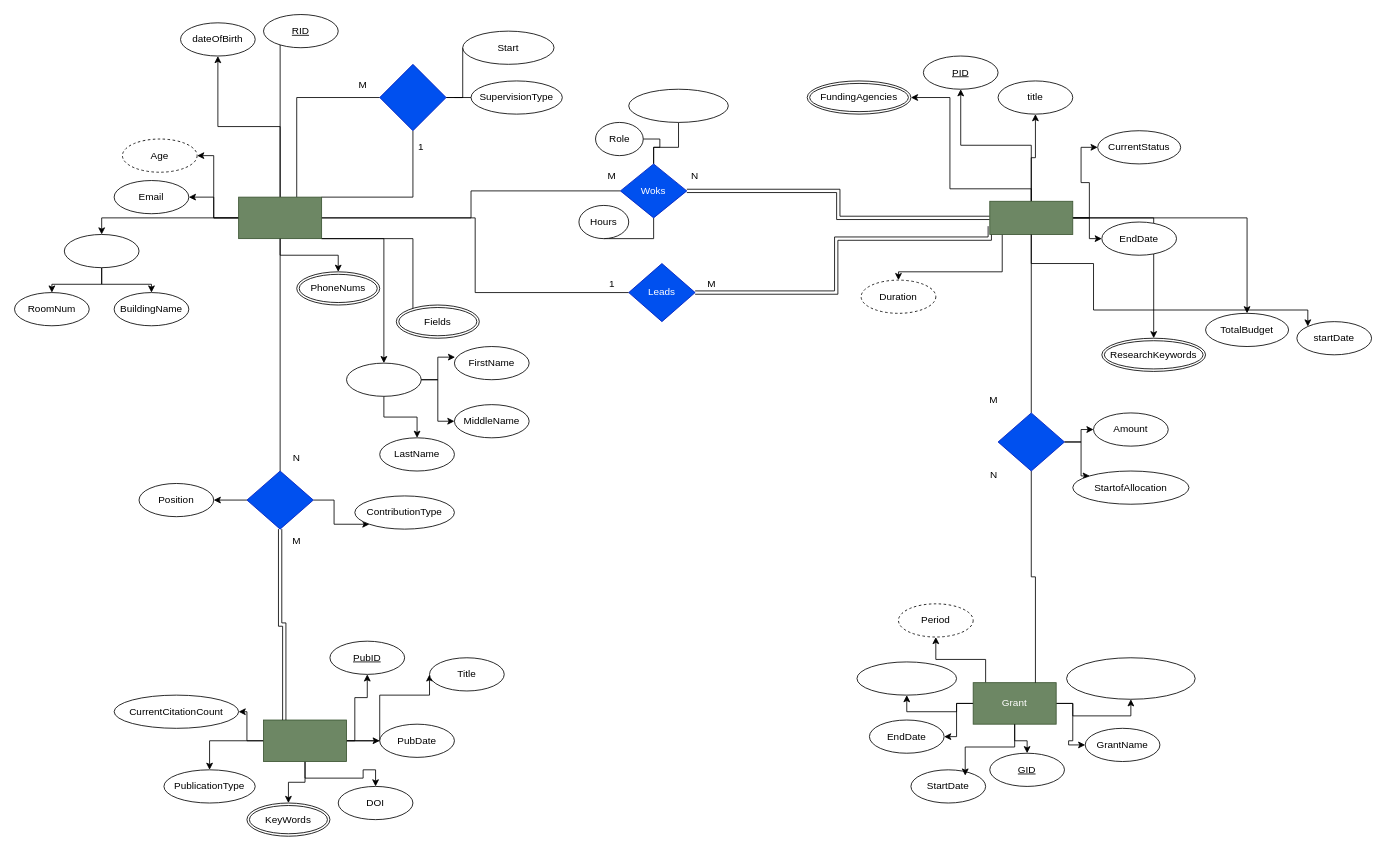
The diagram is 1386 pixels wide and 851 high, and some of its shapes have lost their labels. The centre of each missing label's shape, as x and y in pixels:
Authors: (279,499)
FullName: (383,379)
FundingAgency: (906,678)
Funds: (1030,441)
OfficeLocation: (101,251)
PercentageProject: (678,105)
Project: (1031,217)
Publications: (305,740)
Researcher: (280,217)
Supervises: (412,97)
TotalAmountAwarded: (1130,678)
